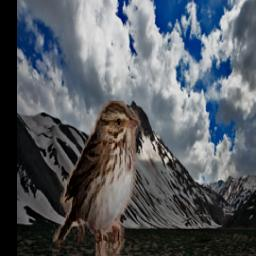Sparrow: (52, 102, 141, 256)
